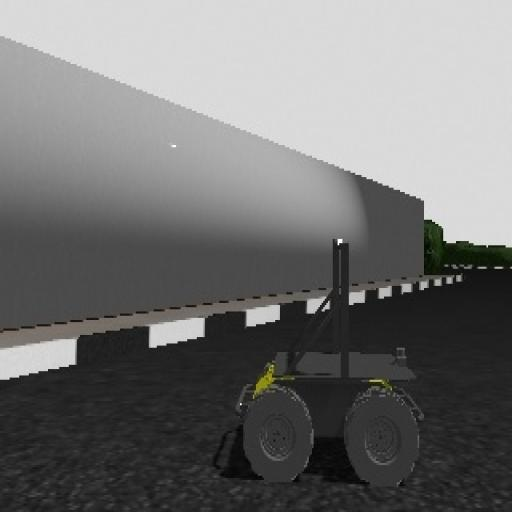huskya200: (218, 234, 440, 504)
